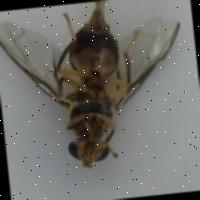Oriental-fruit-fly: (0, 0, 196, 187)
